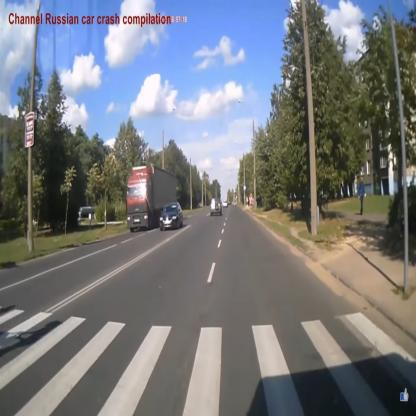crosswalk: (0, 307, 415, 416)
